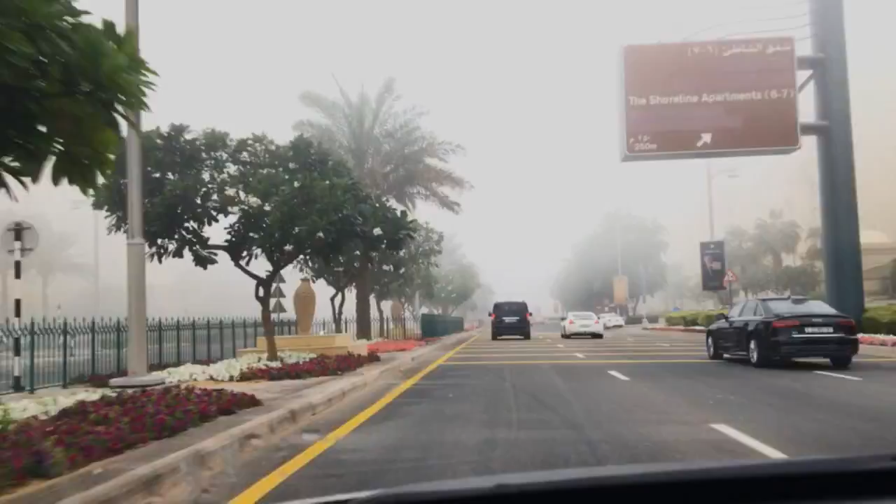car: (702, 293, 861, 370), (486, 299, 534, 342), (558, 308, 605, 339), (590, 309, 627, 331)
